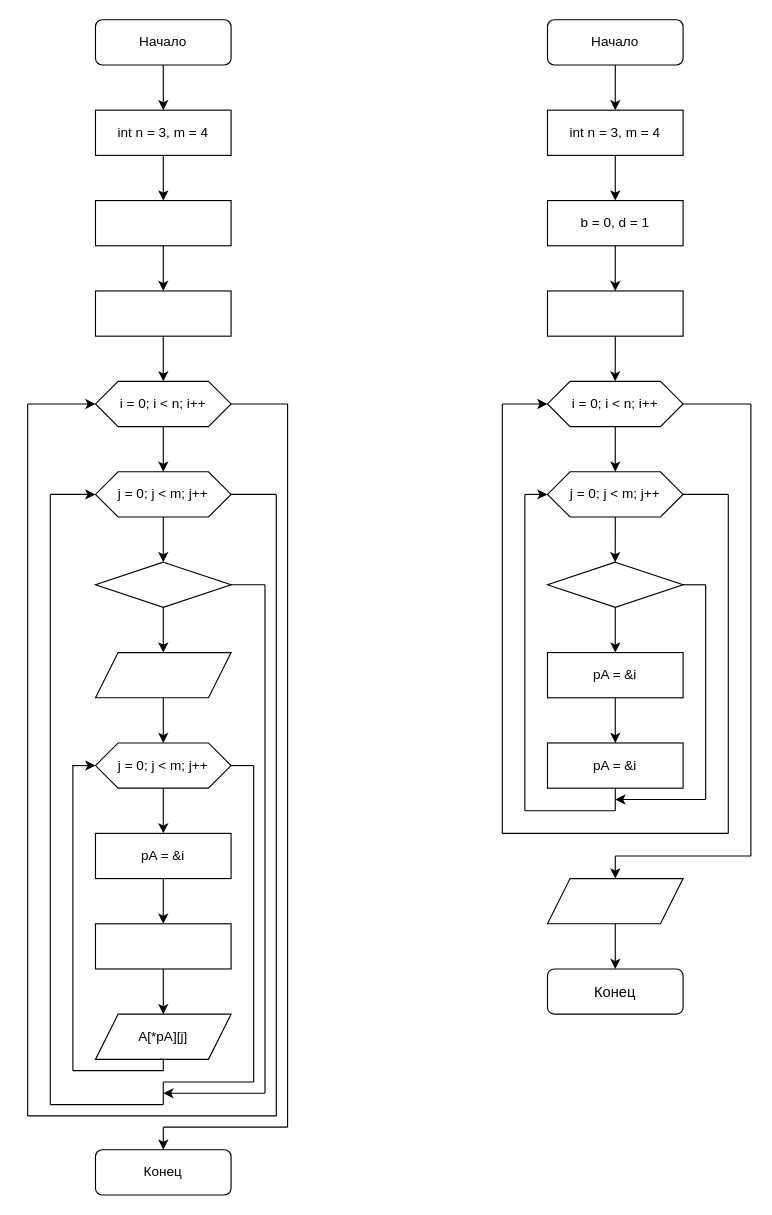
Image size: 772x1215. Some labels were removed from this diagram. The centre of each missing label's shape, as x and y in pixels:
A[*pA][j] *= (-1): [162,946]
A[i][j] % 2 != 0: [614,584]
A[i][j] > 0: [162,584]
A[n][m] = { { -1,-2,-3,-4}, {-5,6,-7,-8}, {-9, 10, 11, 12} }: [162,313]
A[n][m] = { { 1,2,3,4}, {5,6,7,8}, {9, 10, 11, 12} }: [614,313]
b = 0, d = 1, i = 0, j=0: [162,222]
cout << "Сумма: " << b ; cout << "Произведение: " << d;: [614,900]
В строке " << (i + 1) << " есть положительный элемент: [162,674]
